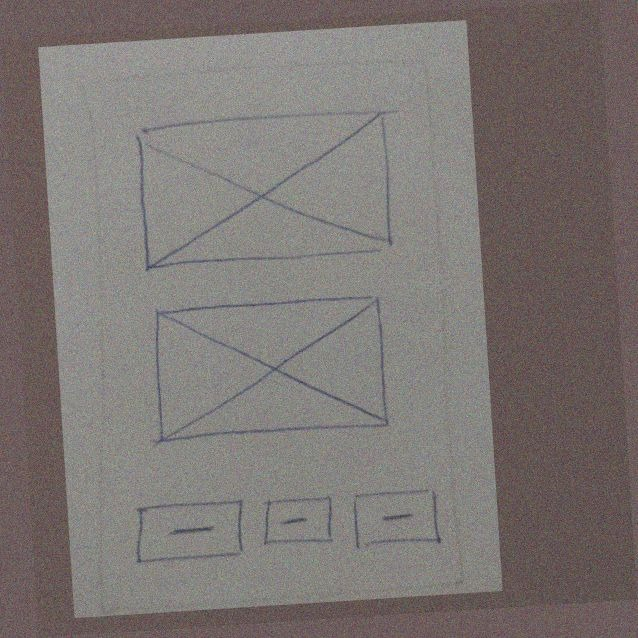button: (129, 489, 253, 570), (344, 476, 448, 557), (254, 487, 342, 558)
image: (127, 99, 407, 276), (136, 285, 406, 450)
